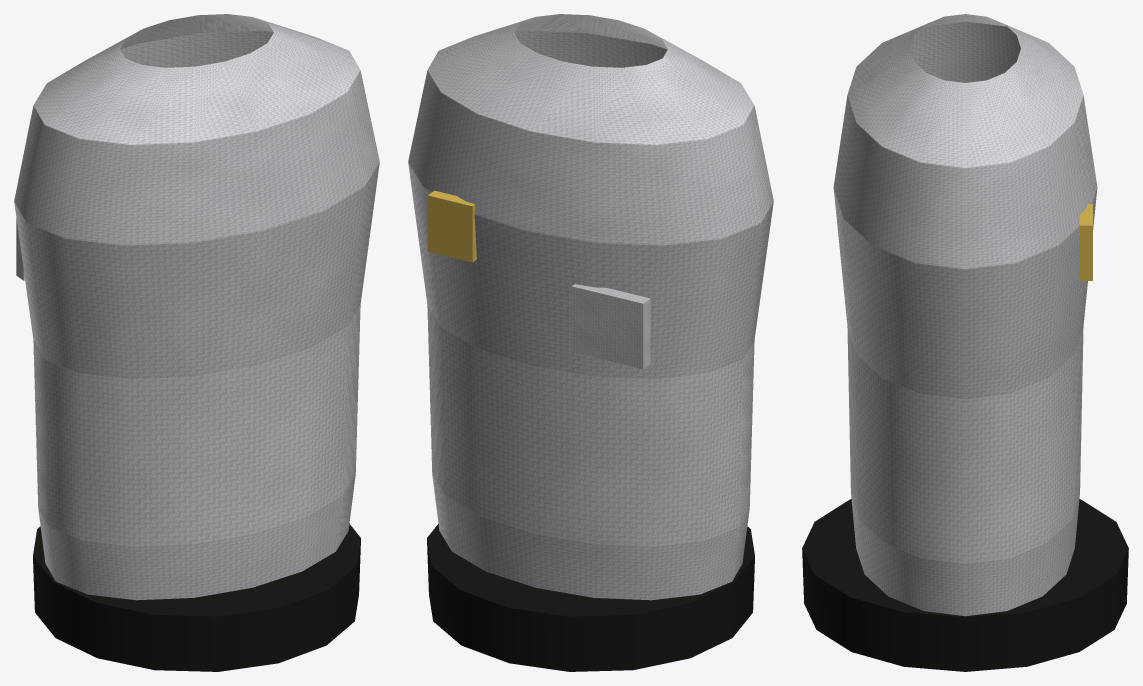
File: char_guard_torso.obj
3 renders of one model, left to right at view 1: azimuth 30°, elevation 25°; view 2: azimuth 150°, elevation 25°; view 3: azimuth 270°, elevation 25°, orthographic.
Visible parts, largest first — view 1: char_guard_torso; view 2: char_guard_torso; view 3: char_guard_torso.
Boxes of the visible parts, box(x1,y1,x2,y2) form: char_guard_torso: box(14, 14, 379, 671); char_guard_torso: box(408, 14, 773, 671); char_guard_torso: box(802, 14, 1128, 671).
Size of the model in its own units: 0.38 by 0.6 by 0.32.
4 materials, 2 textured.
